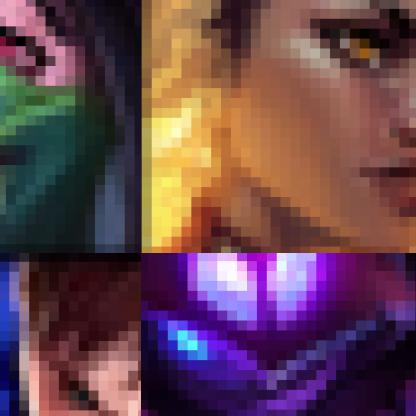Akali: (0, 0, 140, 252)
Garen: (0, 253, 140, 415)
Malzahar: (141, 253, 415, 415)
Rell: (141, 0, 415, 252)
